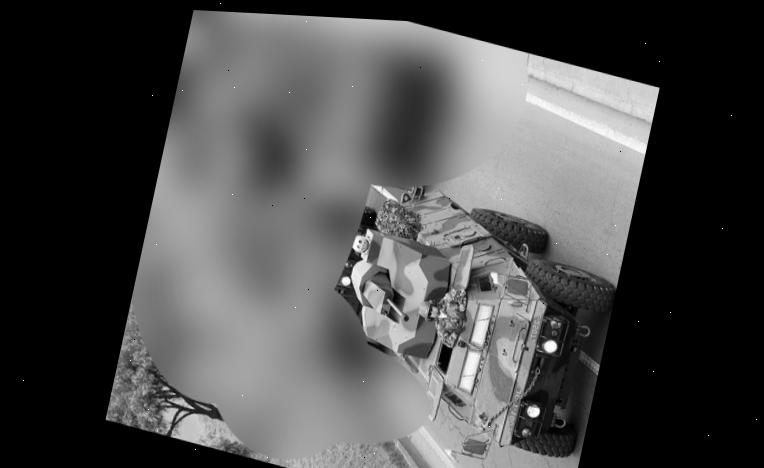armored_car: (307, 161, 625, 468)
